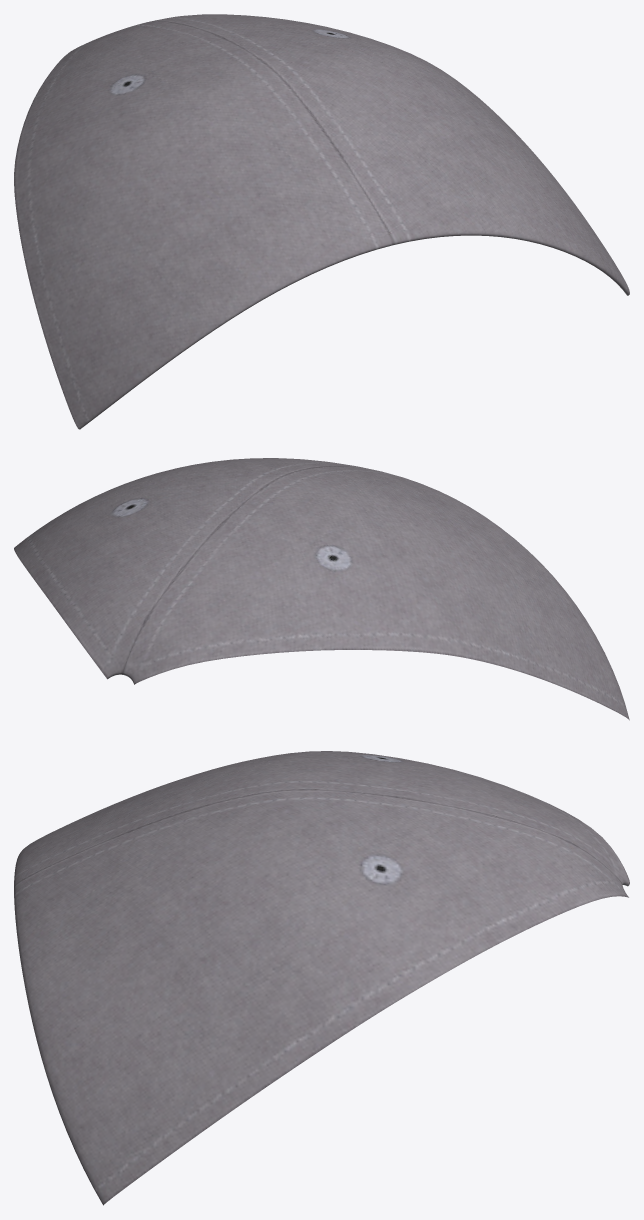
Rendered from back.glb.
3 views of the same model, one above another, from view 1: azimuth 30°, elevation 25°; view 2: azimuth 150°, elevation 25°; view 3: azimuth 270°, elevation 25° (orthographic). The views are drawn at different scales.
Visible parts, largest first — view 1: baseballCap.003; view 2: baseballCap.003; view 3: baseballCap.003.
Part boxes in pixels (x1,y1,x2,y2): baseballCap.003: (14,14,629,429); baseballCap.003: (14,458,629,720); baseballCap.003: (14,751,629,1205).
Size of the model in its own units: 6.34 by 2.58 by 5.42.
1 material, 1 textured.
